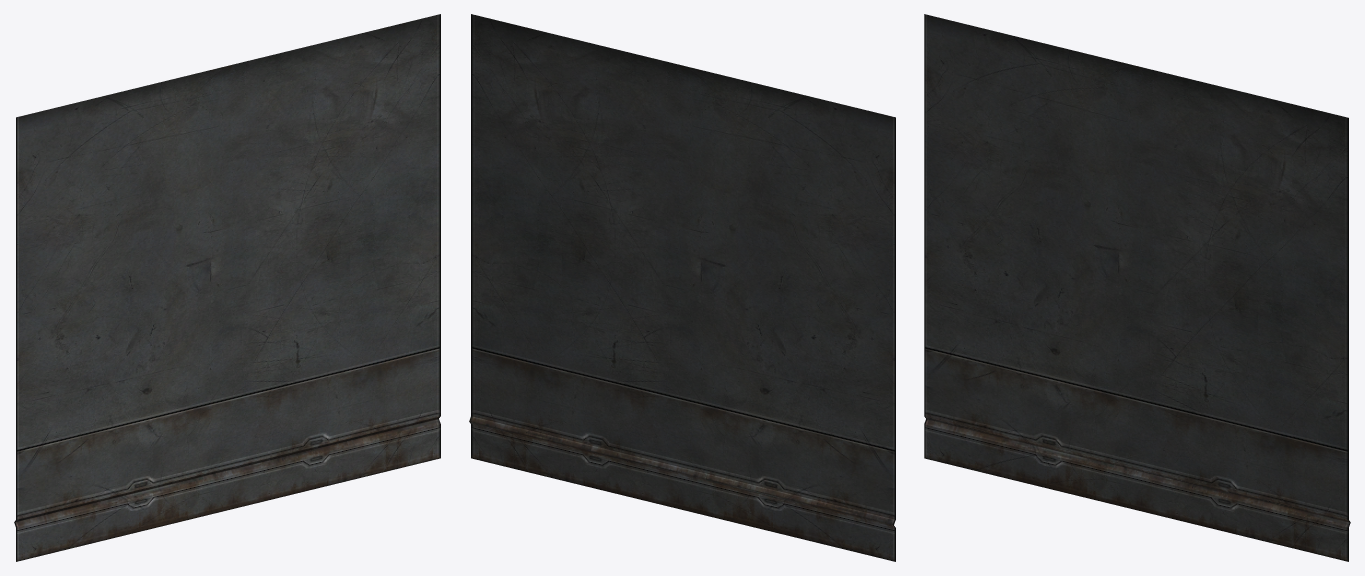
File: datasite_flat04.dae
3 views of the same model, side by side, from view 1: azimuth 30°, elevation 25°; view 2: azimuth 150°, elevation 25°; view 3: azimuth 330°, elevation 25° (orthographic).
Parts seen in each view (by area): view 1: pPlane1; view 2: pPlane1; view 3: pPlane1.
Boxes of the visible parts, x1,y1,x2,y2 form: pPlane1: [14, 14, 440, 561]; pPlane1: [469, 14, 895, 561]; pPlane1: [924, 14, 1350, 561].
Size of the model in its own units: 4 by 4 by 0.0316.
